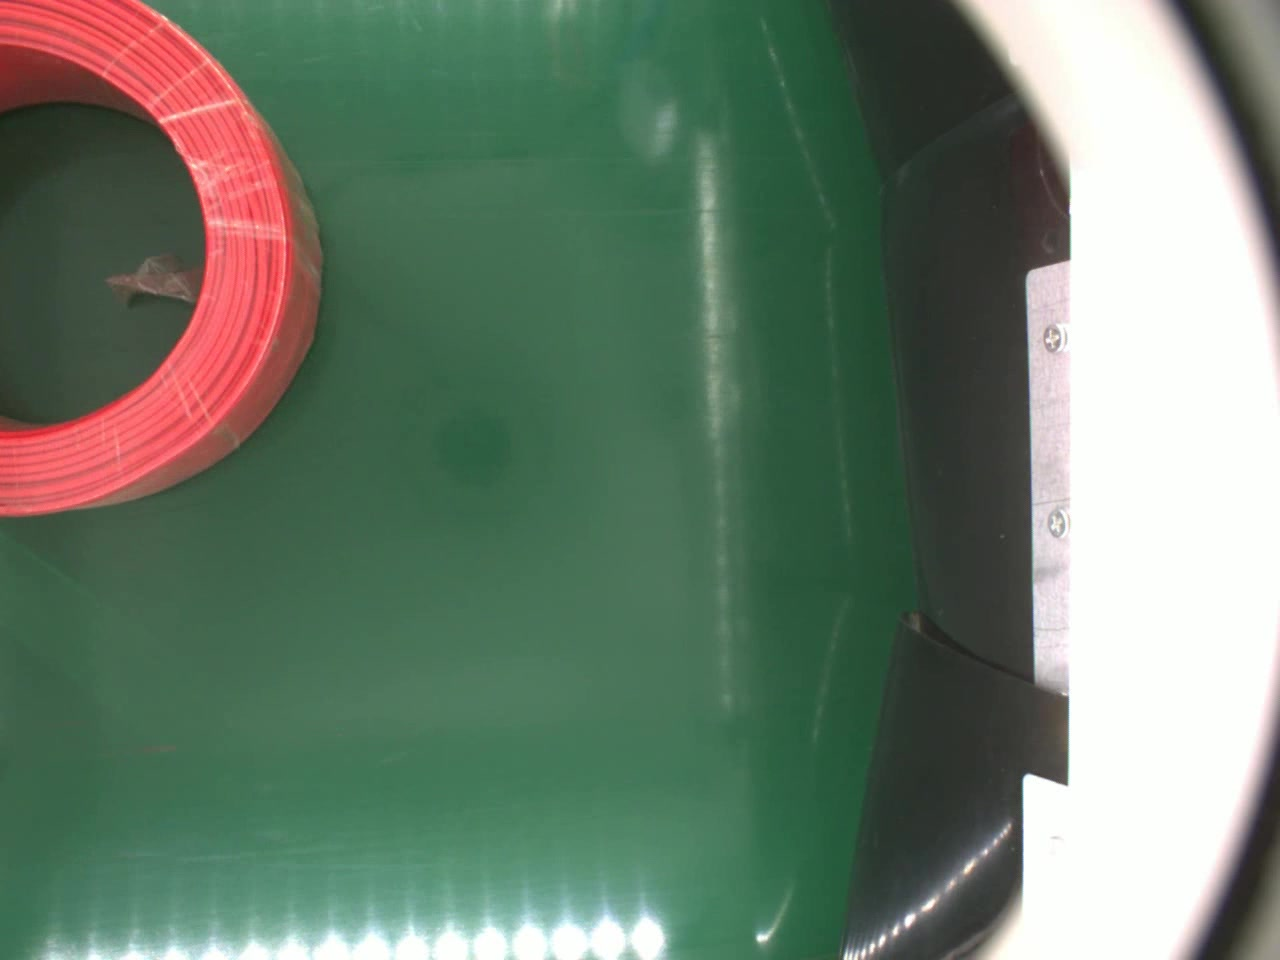red: (0, 0, 321, 518)
